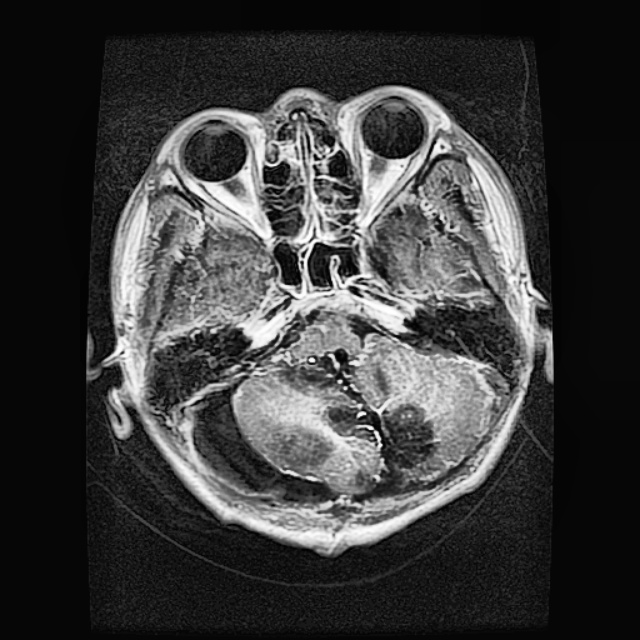Glioma: (324, 403, 437, 484)
